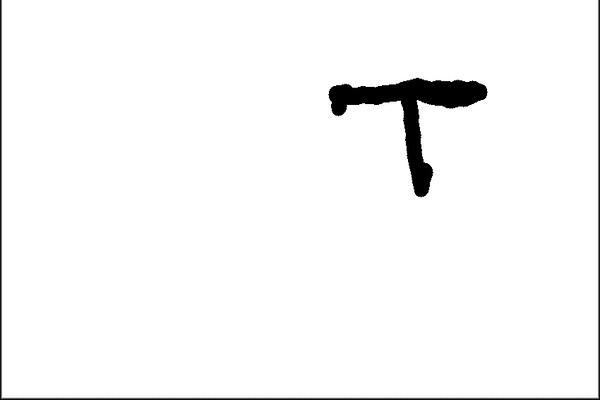T: (322, 68, 491, 206)
